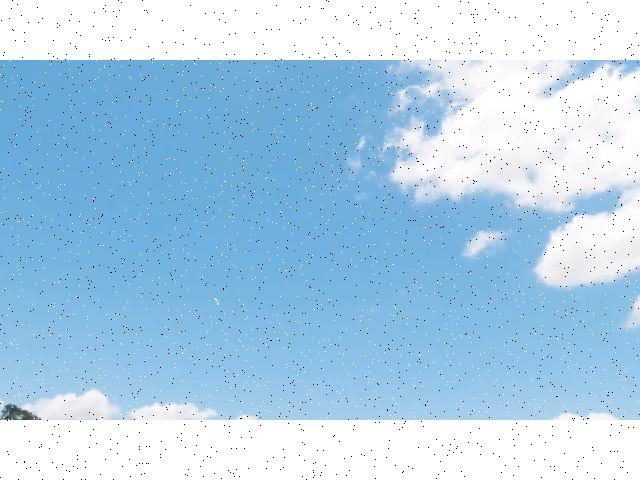Anti-Drone: (210, 291, 228, 311)
